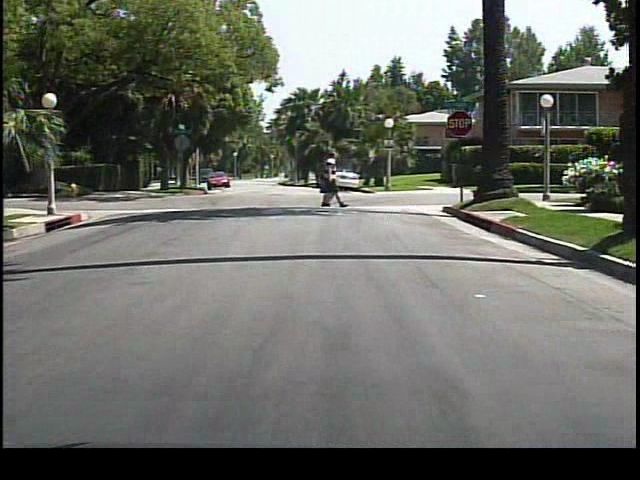person: (314, 149, 339, 208)
